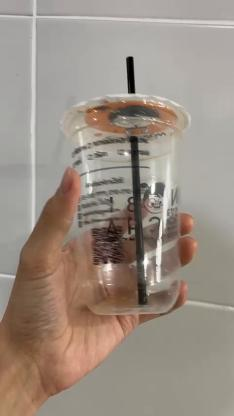Plastic Cup: (58, 94, 192, 316)
